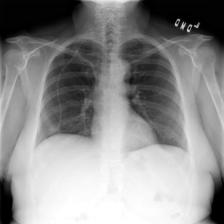normal: (29, 34, 195, 170)
